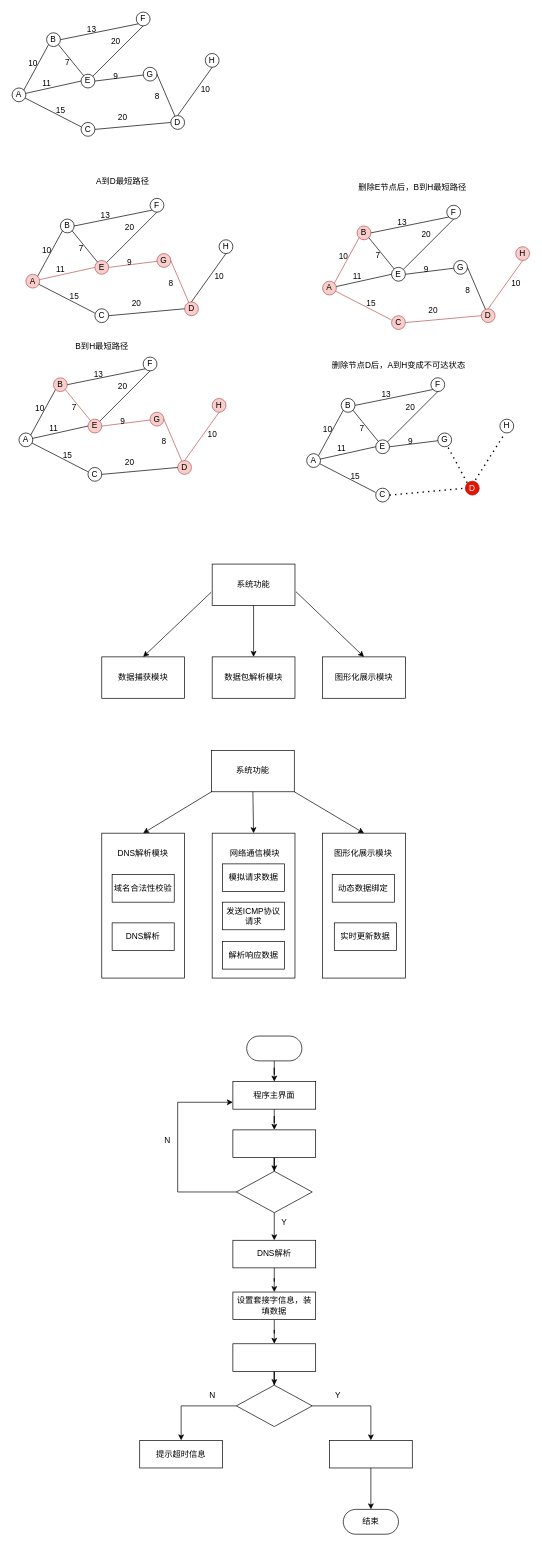
This 542x1546 diagram has some shape labels left out. The shapes that lost their labels are listed below. From the top down, each one's centre as x and y in pixels, then its label:
point 274,1048: 开始
point 274,1143: 输入域名
point 274,1192: 合法性校验
point 274,1357: 发送请求
point 274,1405: 接收响应数据
point 370,1454: 页面渲染数据
